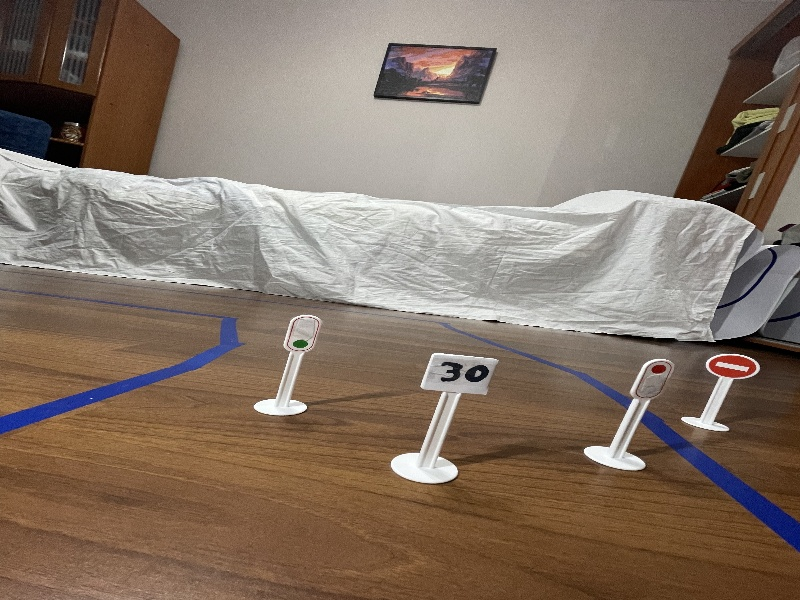interzis: (709, 344, 762, 385)
semafor_rosu: (630, 353, 676, 404)
semafor_verde: (273, 309, 329, 361)
viteza_limita_30: (422, 345, 501, 406)
